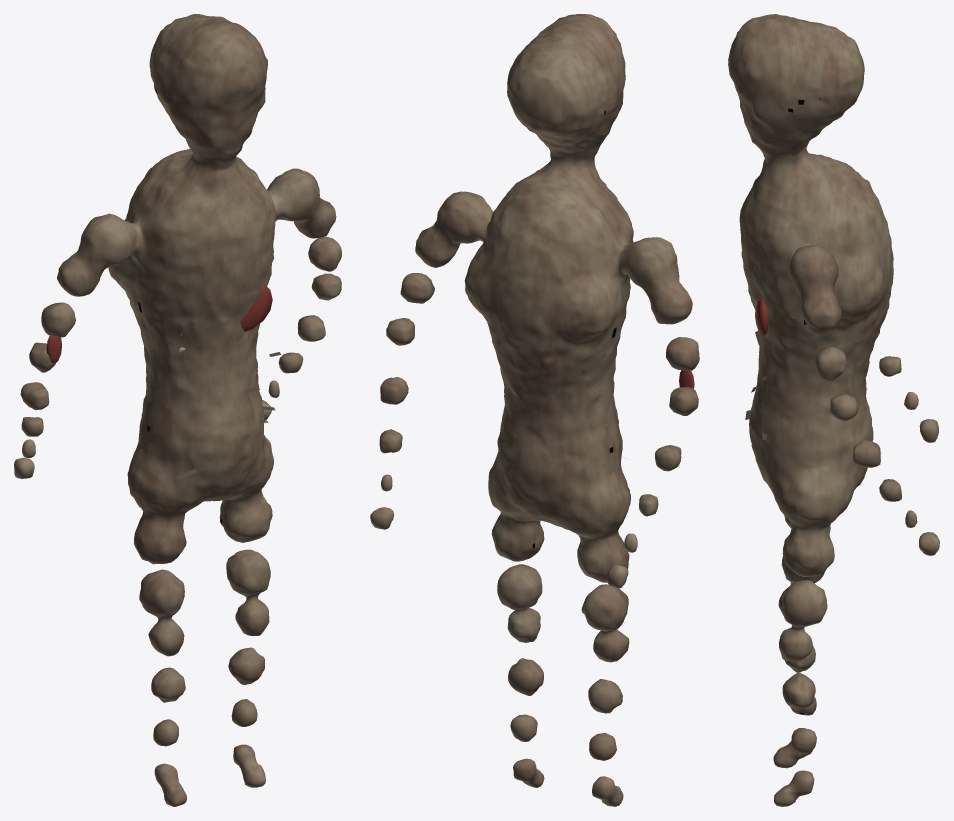
The model's file is zombiea.glb.
3 views of the same model, side by side, from view 1: azimuth 30°, elevation 25°; view 2: azimuth 150°, elevation 25°; view 3: azimuth 270°, elevation 25° (orthographic).
Visible parts, largest first — view 1: Zombie; view 2: Zombie; view 3: Zombie.
Part boxes in pixels (bbox=[...]): Zombie: bbox=[14, 14, 341, 806]; Zombie: bbox=[370, 14, 699, 806]; Zombie: bbox=[728, 14, 939, 806].
Size of the model in its own units: 0.787 by 1.89 by 0.4715.
8 materials, 8 textured.
